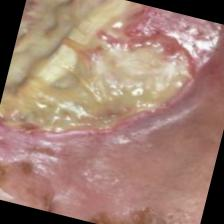wound-ulser: (0, 0, 224, 185)
